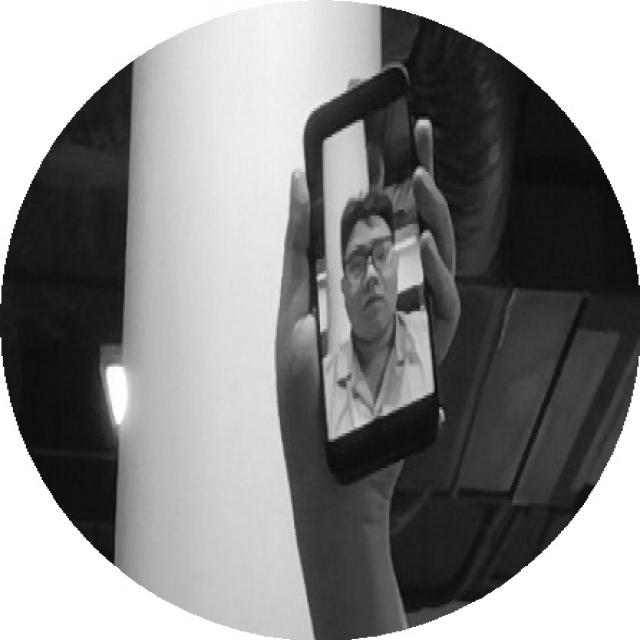fake: (275, 49, 490, 515), (298, 55, 480, 503)
